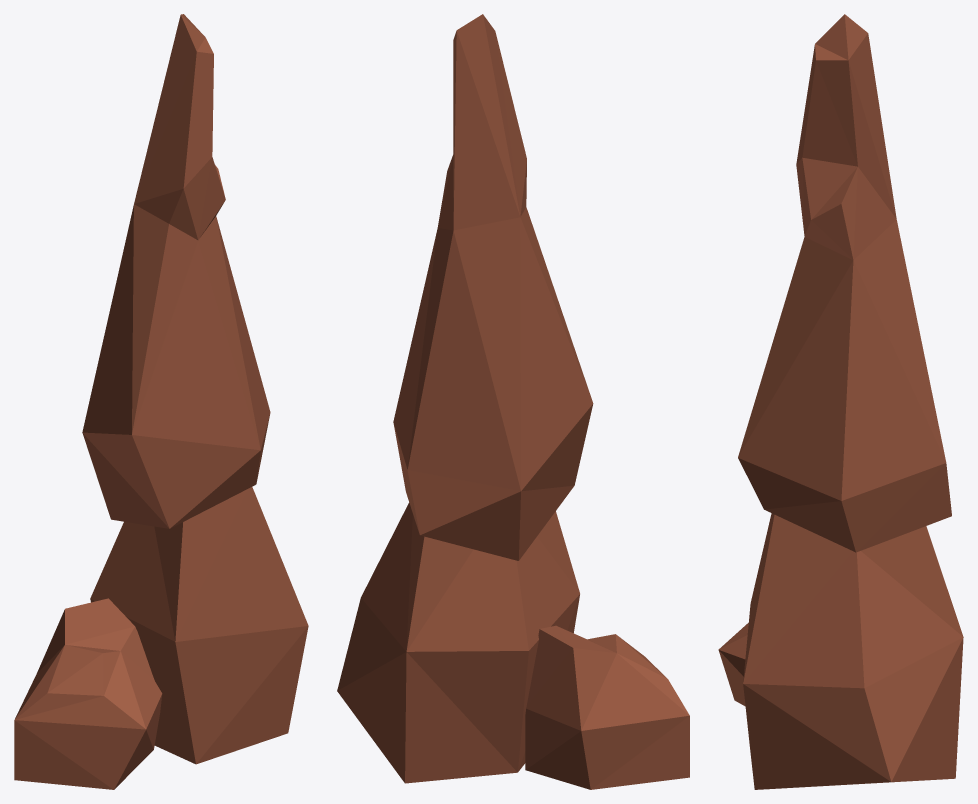
The model's file is Flat_Rock_04.fbx.
The picture shows the model from 3 angles, left to right: view 1: azimuth 30°, elevation 25°; view 2: azimuth 150°, elevation 25°; view 3: azimuth 270°, elevation 25°; orthographic projection. The views are drawn at different scales.
Visible parts, largest first — view 1: Rock_04; view 2: Rock_04; view 3: Rock_04.
Boxes of the visible parts, bbox=[...] form: Rock_04: bbox=[14, 14, 308, 789]; Rock_04: bbox=[337, 14, 689, 789]; Rock_04: bbox=[718, 14, 963, 789].
Bounding box in the file's own units: 200 × 449 × 133.
